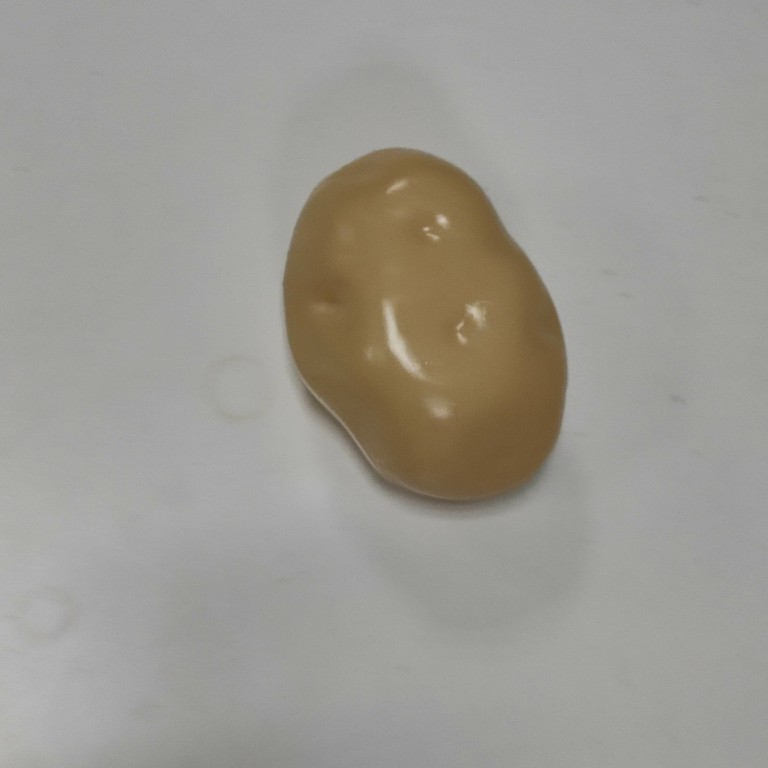fruit_potato: (277, 142, 572, 508)
